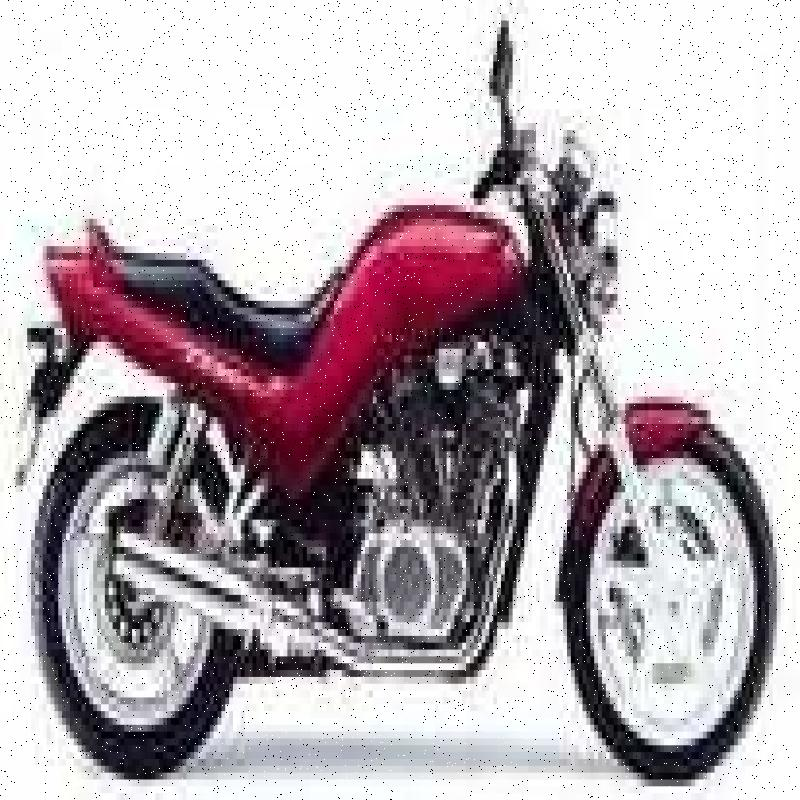bike: (26, 1, 784, 790)
